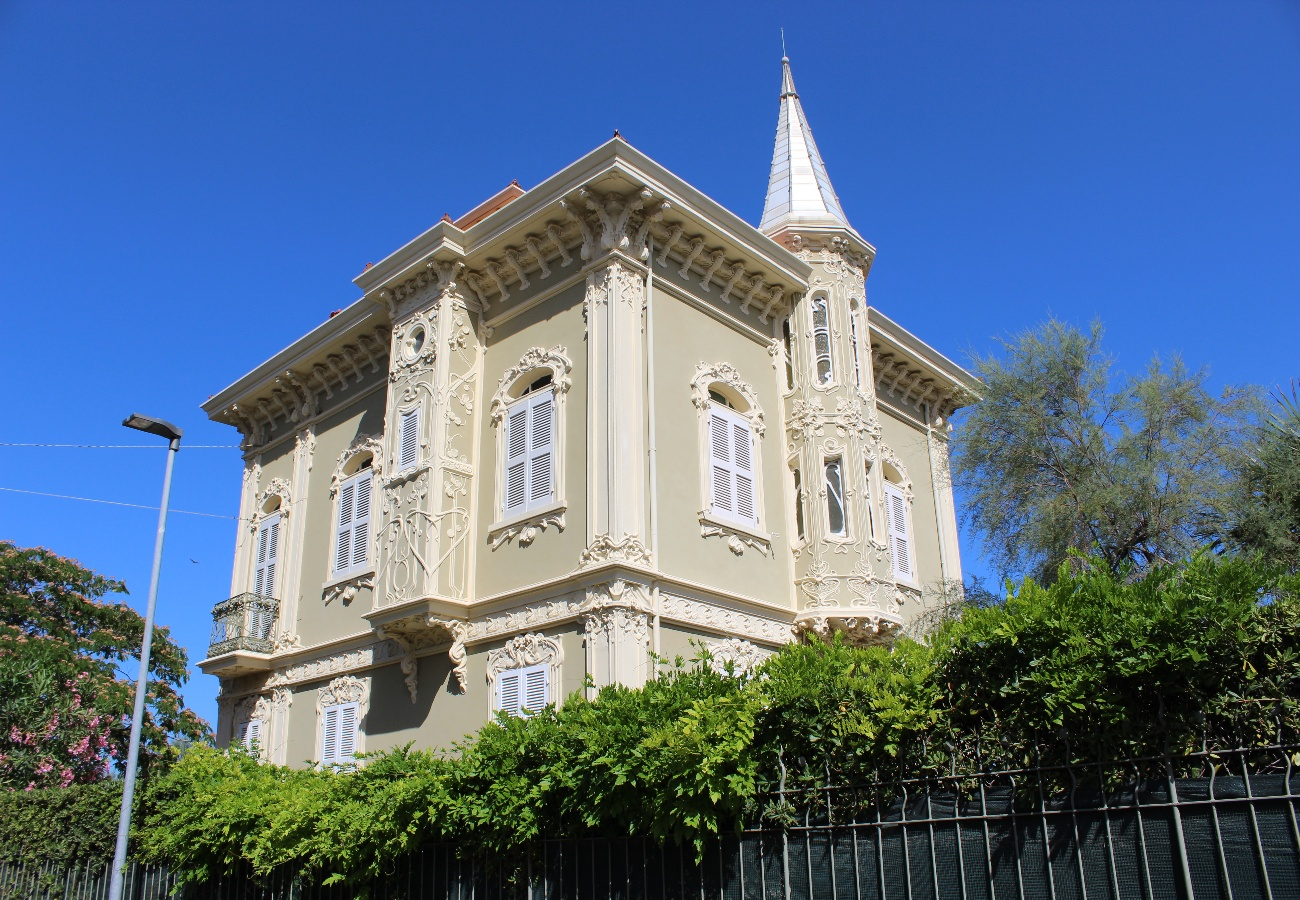Villino Ruggeri: (194, 61, 989, 856)
